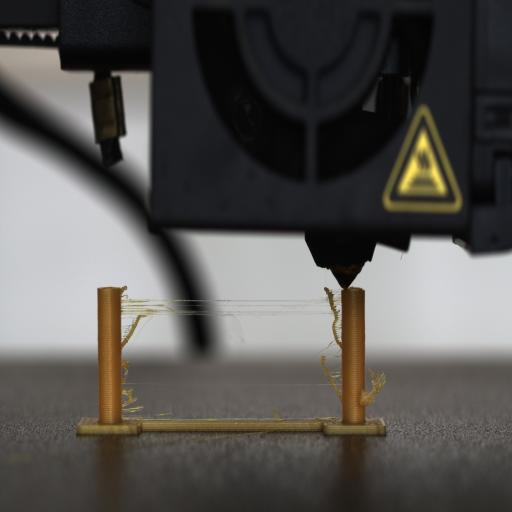stringing: (121, 284, 343, 349), (316, 353, 342, 418), (118, 354, 142, 419), (358, 371, 392, 410)
